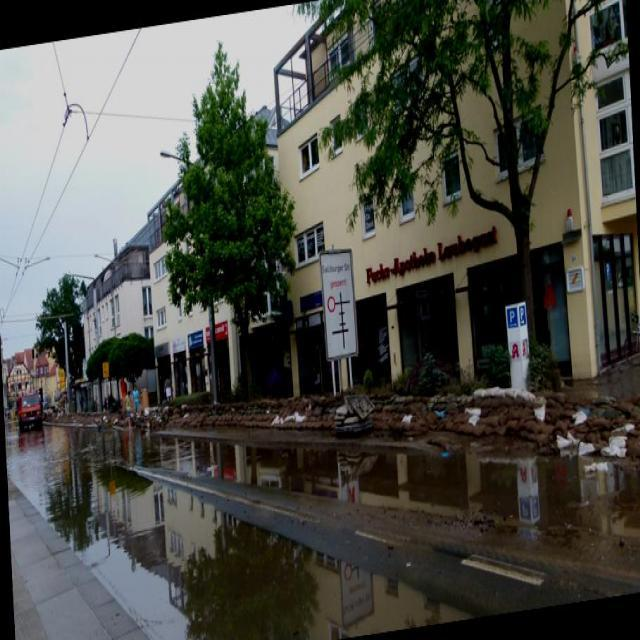flood: (8, 327, 639, 639)
